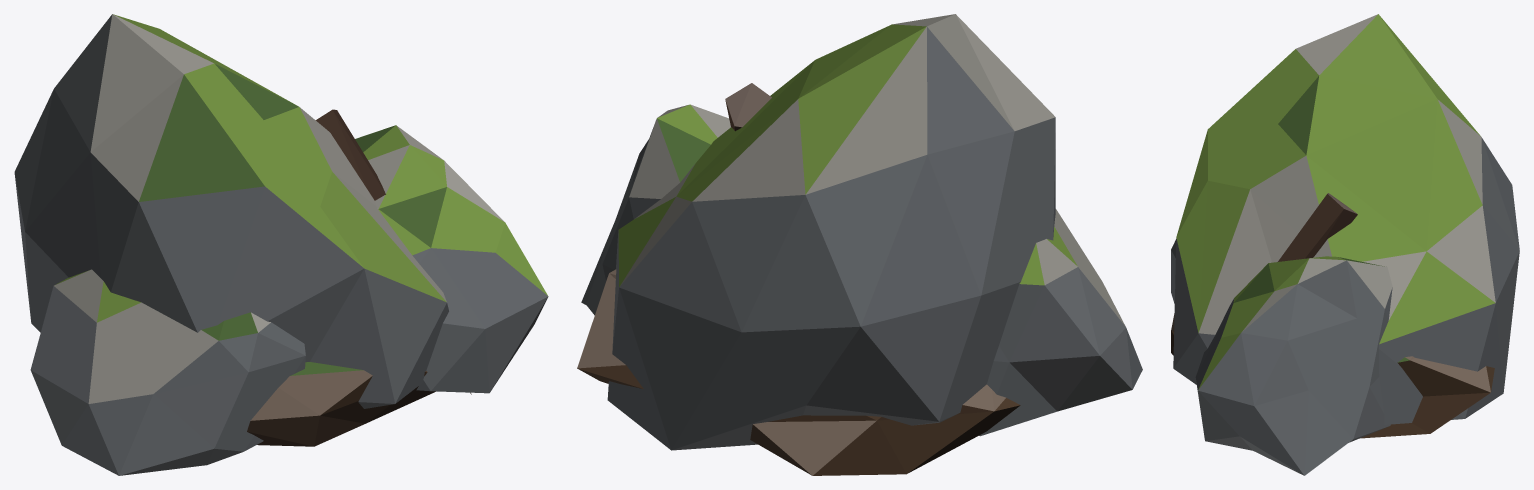
File: SM_Rim_Rock_A.fbx
The picture shows the model from 3 angles, left to right: view 1: azimuth 30°, elevation 25°; view 2: azimuth 150°, elevation 25°; view 3: azimuth 270°, elevation 25°; orthographic projection. The views are drawn at different scales.
Parts seen in each view (by area): view 1: SM_Rim_Rock_A; view 2: SM_Rim_Rock_A; view 3: SM_Rim_Rock_A.
Boxes of the visible parts, box(x1,y1,x2,y2) form: SM_Rim_Rock_A: box(14, 14, 548, 475); SM_Rim_Rock_A: box(577, 14, 1142, 475); SM_Rim_Rock_A: box(1171, 14, 1519, 475).
Bounding box in the file's own units: 4.4 × 3.31 × 3.28.
